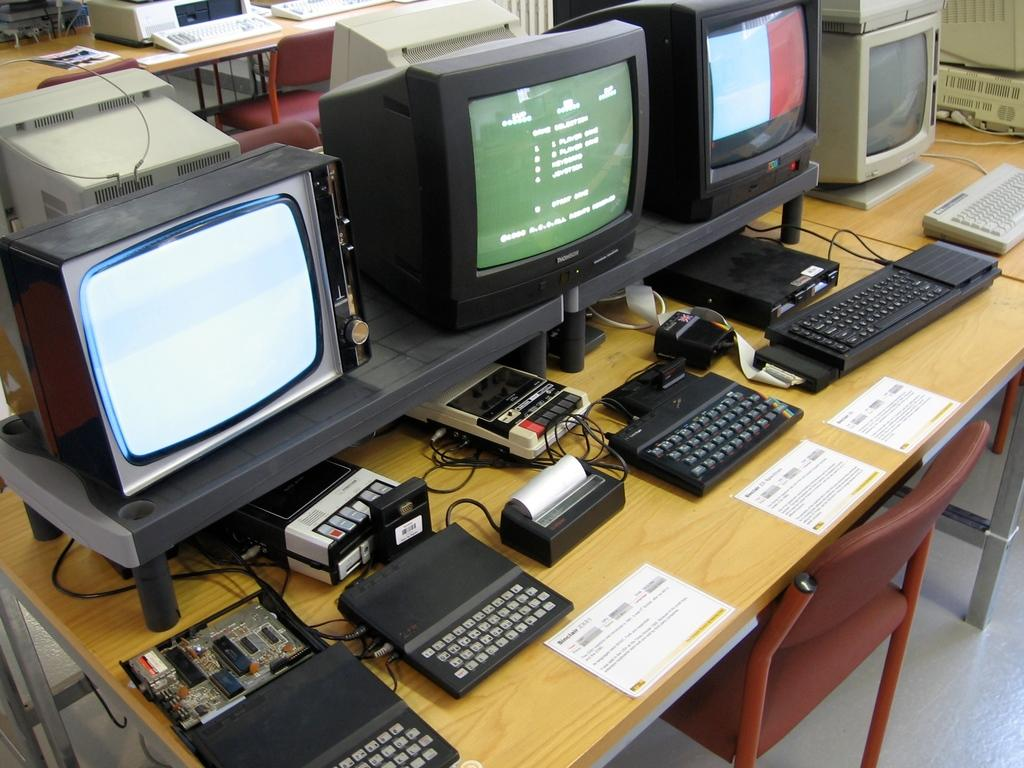Computer-keyboard: (784, 267, 955, 357), (152, 10, 282, 50), (272, 0, 395, 21)
Computer-monitor: (337, 22, 659, 344), (525, 0, 821, 236), (0, 65, 248, 237), (810, 9, 948, 216), (328, 0, 524, 98)
